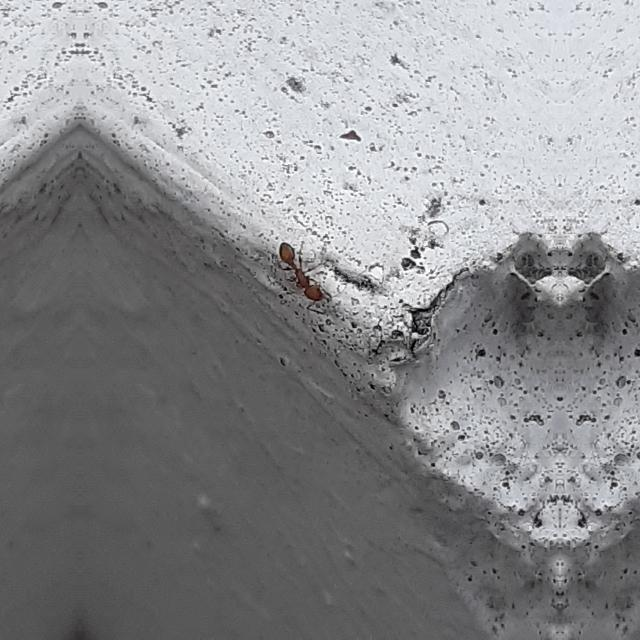Temnothorax: (272, 230, 336, 310)
